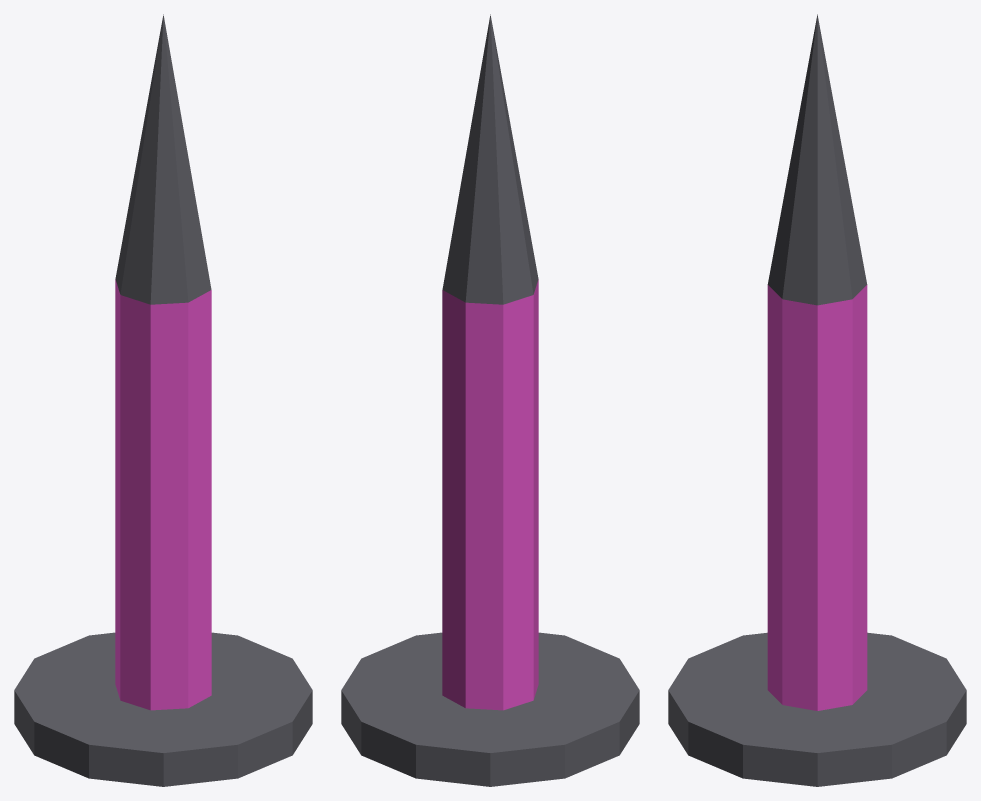
File: placeholder_mast.glb
The picture shows the model from 3 angles, left to right: view 1: azimuth 30°, elevation 25°; view 2: azimuth 150°, elevation 25°; view 3: azimuth 270°, elevation 25°; orthographic projection.
Bounding box in the file's own units: 0.12 × 0.315 × 0.12.
